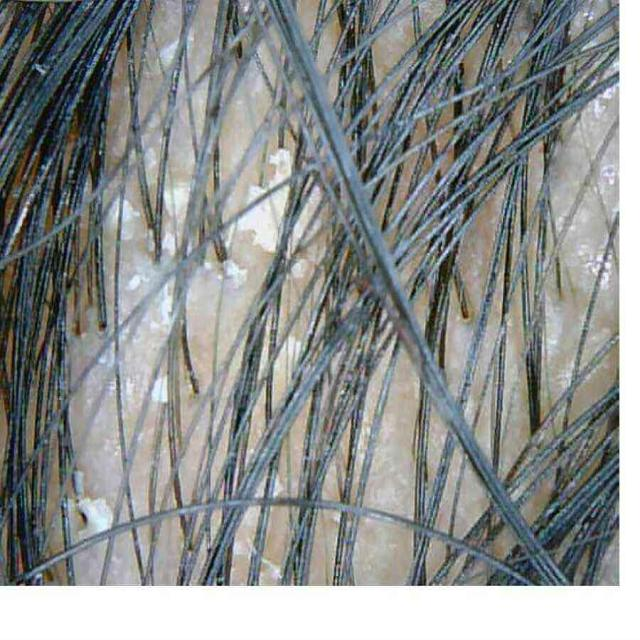d: (236, 149, 292, 253), (76, 497, 112, 537), (164, 183, 190, 224), (224, 260, 248, 289), (160, 40, 179, 67), (122, 199, 140, 222), (152, 377, 168, 402), (161, 232, 176, 255), (126, 273, 141, 291)
